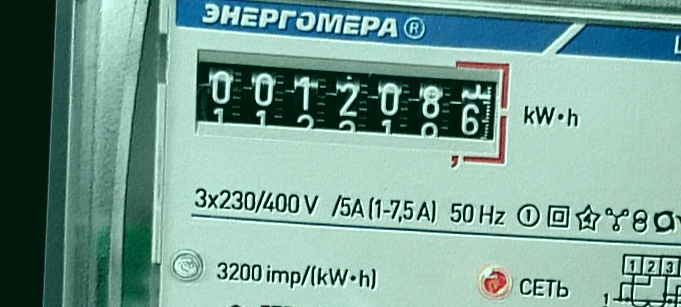0: (208, 66, 235, 106), (376, 79, 402, 116), (252, 70, 277, 108)
1: (293, 72, 316, 112)
2: (335, 79, 363, 118)
6: (457, 100, 482, 137)
8: (417, 82, 444, 120)
screen: (185, 41, 519, 169)
